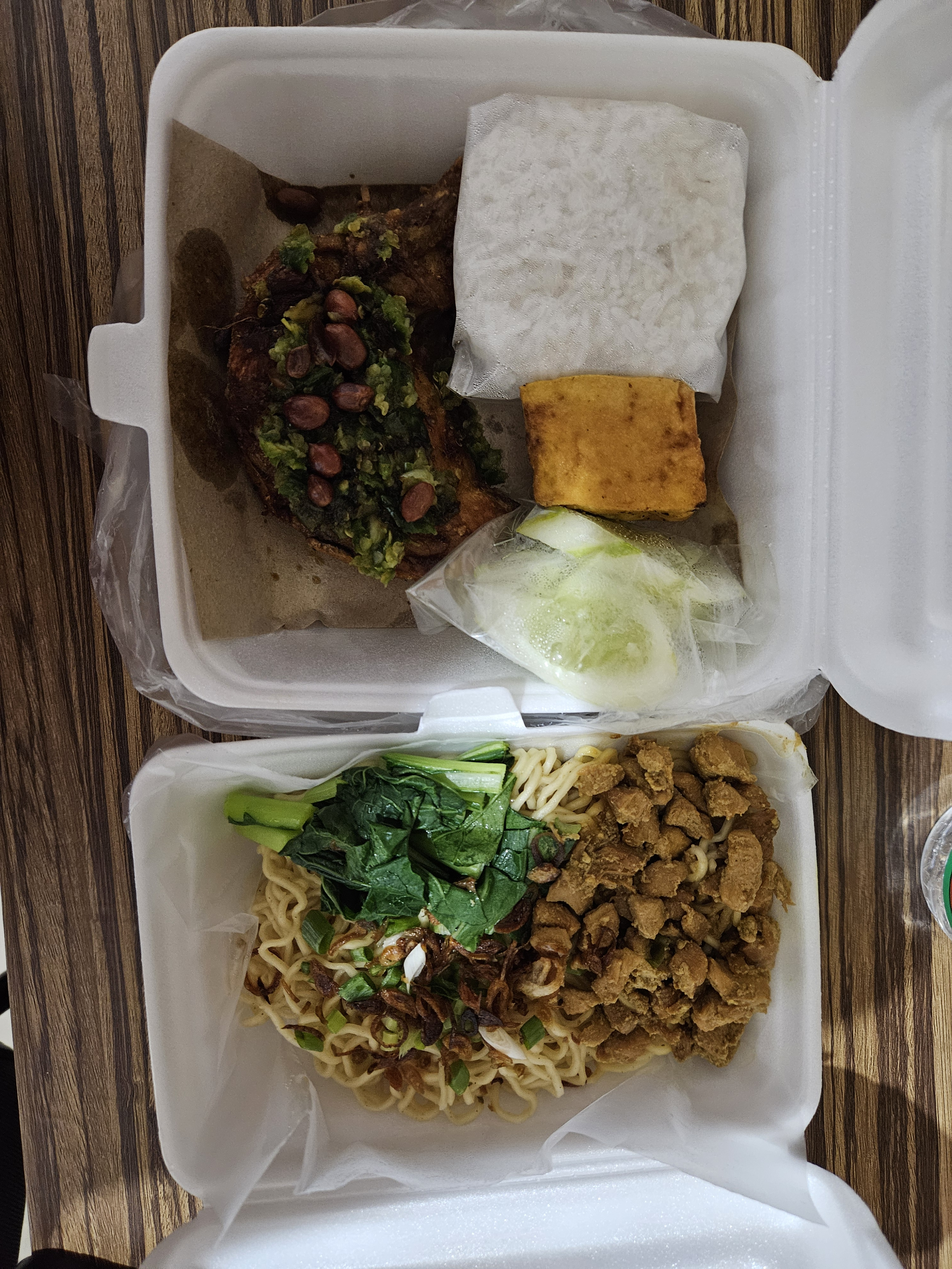buah_sayur_lainnya: (265, 744, 539, 949)
daging: (547, 758, 800, 1074), (259, 225, 463, 569)
kacang_legume: (525, 389, 714, 509)
makanan_berpati: (451, 121, 743, 374)
